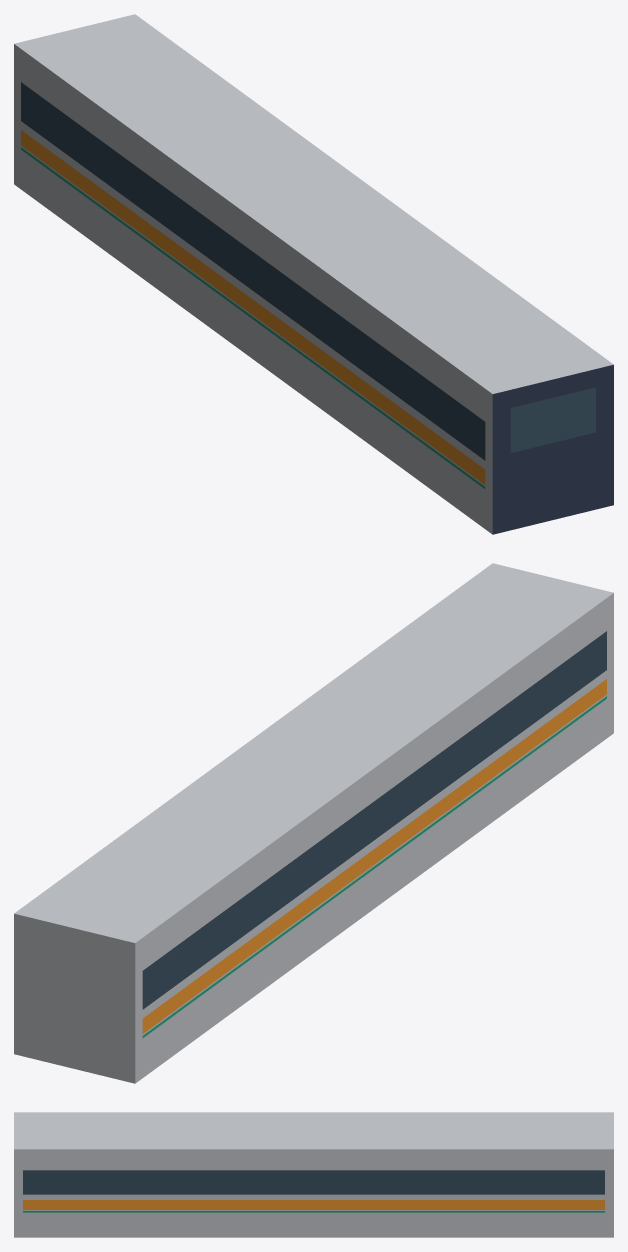
File: 4_far.fbx
3 renders of one model, top to bottom at view 1: azimuth 30°, elevation 25°; view 2: azimuth 150°, elevation 25°; view 3: azimuth 270°, elevation 25°, orthographic. The views are drawn at different scales.
Parts seen in each view (by area): view 1: 20_4_far; view 2: 20_4_far; view 3: 20_4_far.
Part boxes in pixels (x1=…): 20_4_far: x1=14, y1=14, x2=613, y2=534; 20_4_far: x1=14, y1=563, x2=613, y2=1083; 20_4_far: x1=14, y1=1112, x2=613, y2=1237.
Bounding box in the file's own units: 2.93 × 3.24 × 20.
